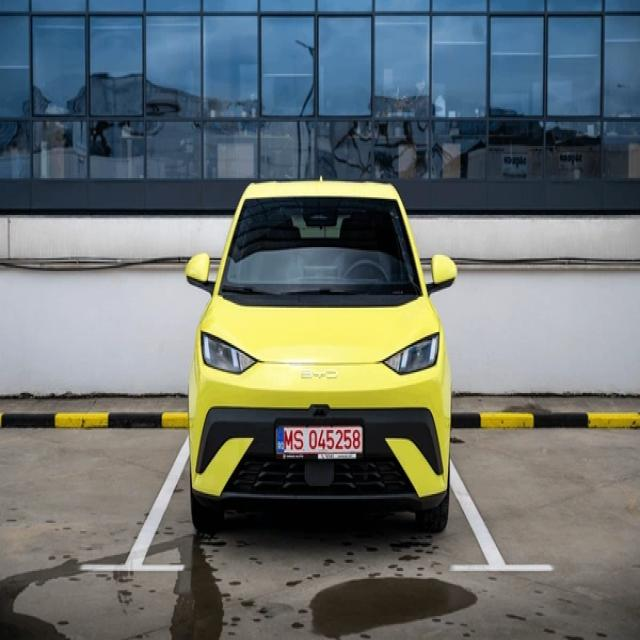byd: (299, 365, 341, 385)
